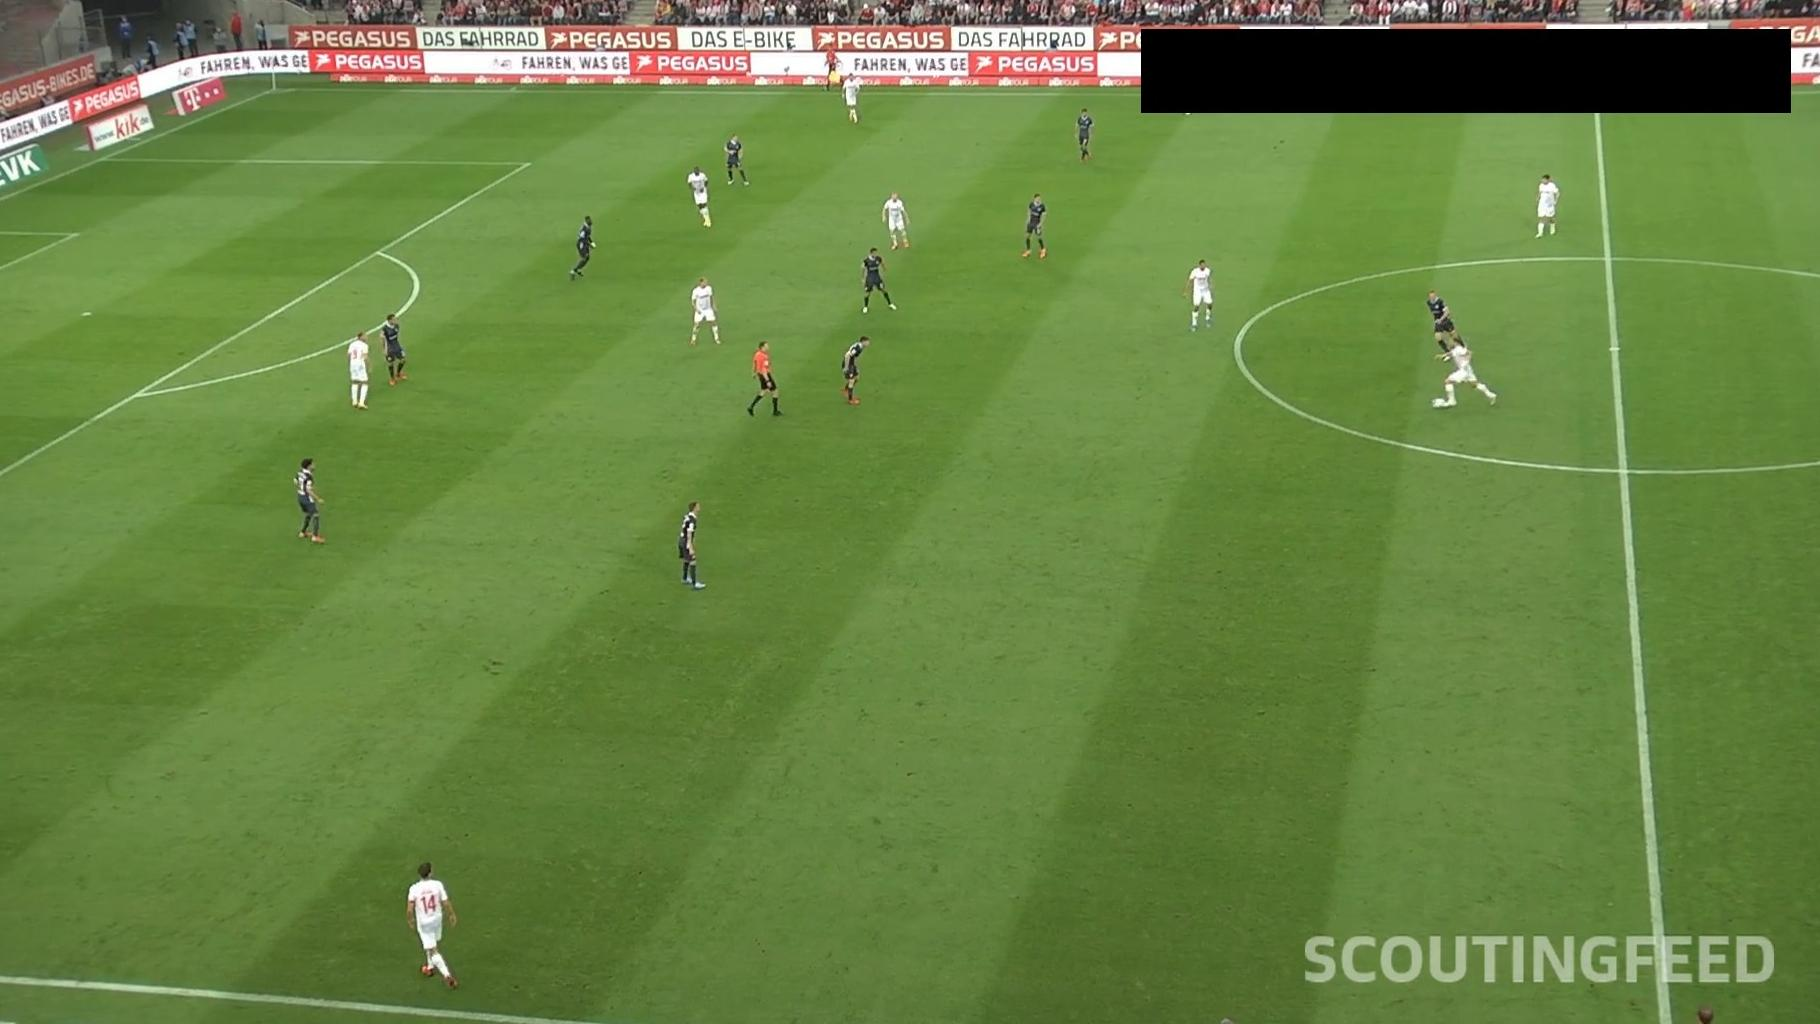ball: (1430, 396, 1447, 410)
